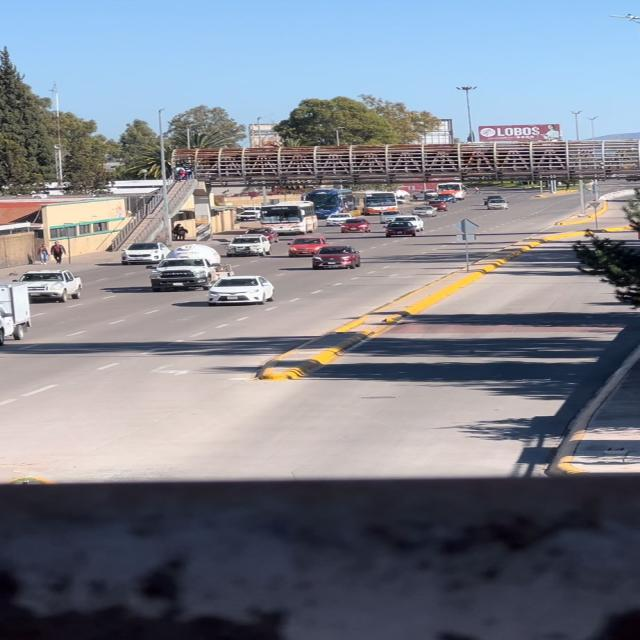Auto: (151, 249, 228, 295), (207, 271, 280, 306), (17, 271, 79, 299), (312, 244, 361, 273), (221, 235, 271, 259), (287, 232, 324, 262), (119, 240, 169, 262), (387, 222, 422, 237), (321, 214, 353, 227), (340, 218, 367, 233), (483, 200, 512, 212), (412, 206, 439, 218), (379, 211, 406, 223), (423, 199, 450, 211), (482, 193, 502, 209)
Autobus: (255, 202, 323, 235), (358, 192, 403, 216), (435, 184, 467, 199)
Peaton: (36, 240, 67, 264), (173, 223, 190, 240), (172, 164, 188, 182)
